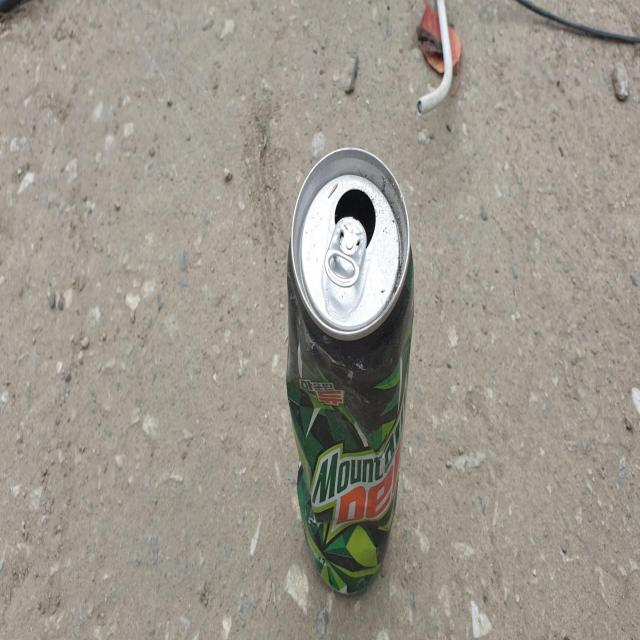can: (286, 146, 414, 594)
